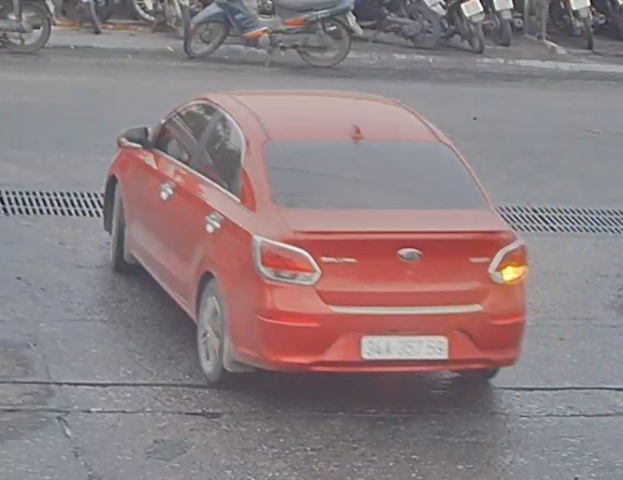vehicle plate: (357, 323, 460, 365)
